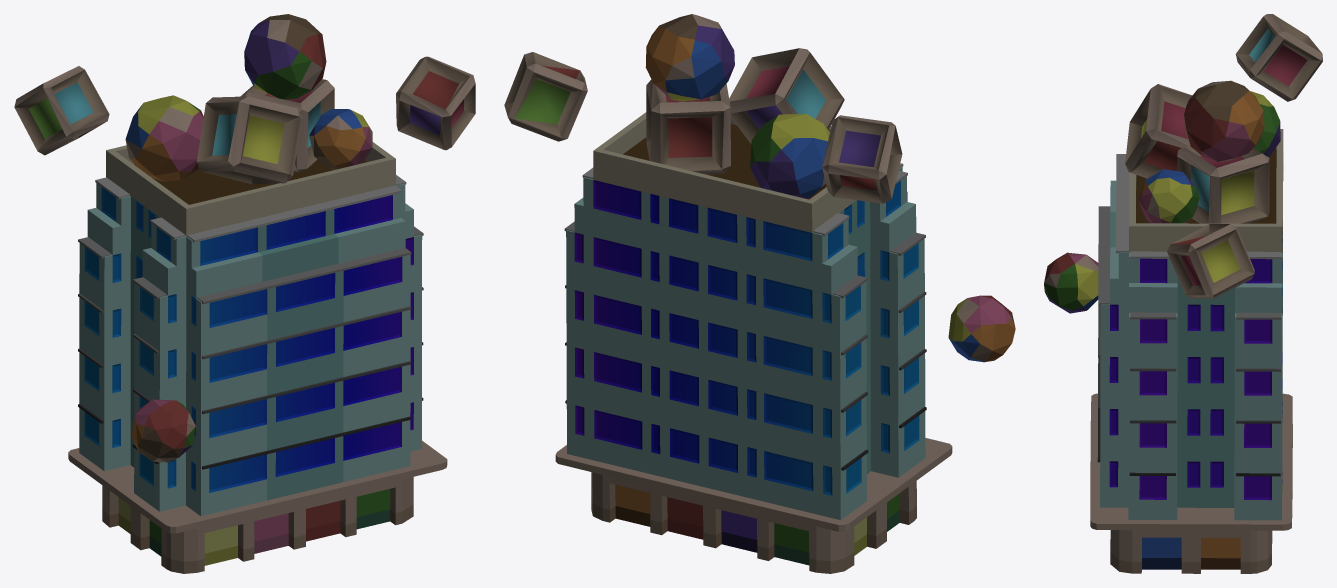
3 renders of one model, left to right at view 1: azimuth 30°, elevation 25°; view 2: azimuth 150°, elevation 25°; view 3: azimuth 270°, elevation 25°, orthographic. The views are drawn at different scales.
Parts seen in each view (by area): view 1: Plane.009; view 2: Plane.009; view 3: Plane.009.
Part boxes in pixels (box(x1,y1,x2,y2)): Plane.009: box(14, 14, 475, 573); Plane.009: box(504, 14, 1015, 573); Plane.009: box(1044, 14, 1322, 573).
Size of the model in its own units: 3 by 3.31 by 1.85.
1 material, 1 textured.
